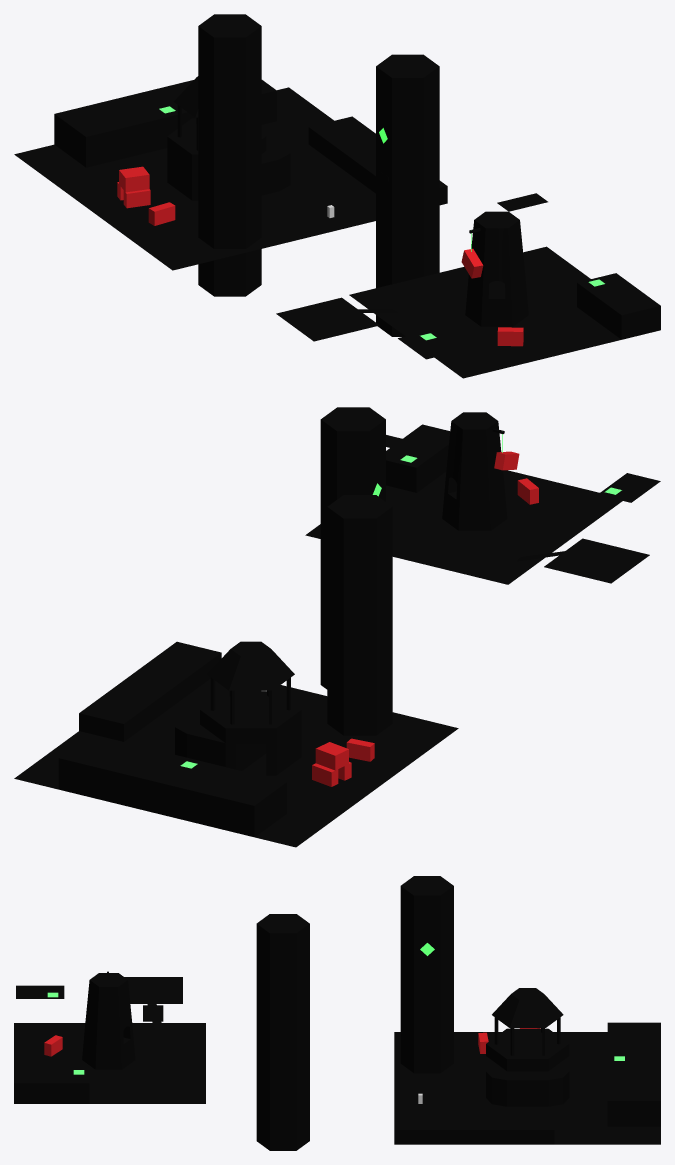
Rendered from VR_Test_Level.fbx.
3 views of the same model, one above another, from view 1: azimuth 30°, elevation 25°; view 2: azimuth 150°, elevation 25°; view 3: azimuth 270°, elevation 25° (orthographic). The views are drawn at different scales.
Visible parts, largest first — view 1: Island_1, Island_2, Piller, Piller_2, Building_2, Building_1, Island_3, Island_4, Roof, Container_4; view 2: Island_1, Island_2, Piller, Building_1, Piller_2, Building_2, Roof, Island_3, Island_4, Cube.006; view 3: Island_1, Island_2, Piller_2, Piller, Building_1, Building_2, Roof, Island_3, Island_4, Cube.006.
Boxes of the visible parts, box(x1,y1,x2,y2) form: Island_1: box(14, 80, 447, 270); Island_2: box(349, 246, 660, 378); Piller: box(198, 14, 261, 296); Piller_2: box(376, 54, 439, 336); Building_2: box(465, 211, 528, 326); Building_1: box(167, 118, 290, 200); Island_3: box(276, 297, 379, 341); Island_4: box(398, 330, 458, 359); Roof: box(174, 76, 198, 117); Container_4: box(122, 170, 149, 192); Island_1: box(14, 641, 458, 847); Island_2: box(305, 424, 622, 584); Piller: box(327, 495, 392, 735); Building_1: box(175, 691, 301, 775); Piller_2: box(320, 407, 385, 689); Building_2: box(442, 412, 507, 530); Roof: box(207, 641, 294, 690); Island_3: box(544, 538, 649, 583); Island_4: box(598, 473, 660, 502); Cube.006: box(210, 677, 290, 724); Island_1: box(394, 1022, 660, 1144); Island_2: box(14, 1023, 205, 1103); Piller_2: box(256, 914, 309, 1150); Piller: box(400, 876, 453, 1073); Building_1: box(486, 1028, 569, 1106); Building_2: box(82, 973, 135, 1069); Roof: box(492, 988, 563, 1027); Island_3: box(124, 977, 182, 1003); Island_4: box(16, 985, 64, 998); Cube.006: box(494, 1017, 560, 1055).
Bounding box in the file's own units: 5412 × 4500 × 12131.
